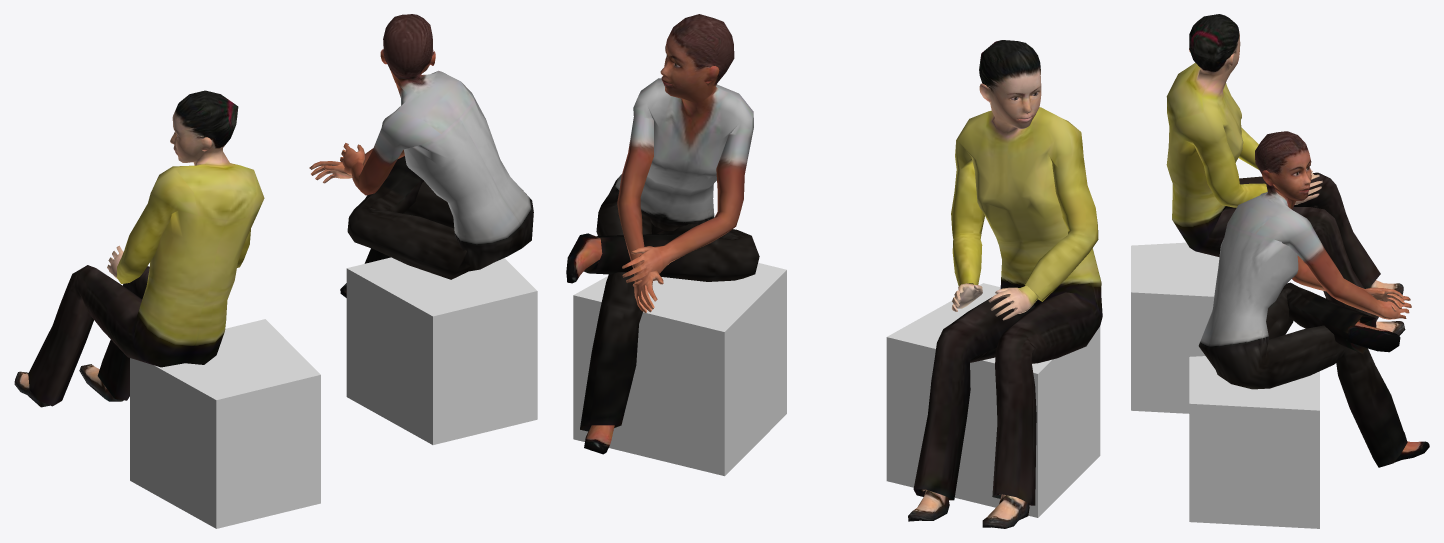
File: Publico.fbx
3 renders of one model, left to right at view 1: azimuth 30°, elevation 25°; view 2: azimuth 150°, elevation 25°; view 3: azimuth 270°, elevation 25°, orthographic. The views are drawn at different scales.
Visible parts, largest first — view 1: Female001, Seat002, Seat001, Female000; view 2: Female001, Female000, Seat001, Seat002; view 3: Female000, Female001, Seat001, Seat002.
Part boxes in pixels (bbox=[...]): Female001: bbox=[14, 90, 264, 407]; Seat002: bbox=[130, 319, 320, 528]; Seat001: bbox=[346, 257, 537, 444]; Female000: bbox=[309, 14, 533, 297]; Female001: bbox=[908, 40, 1102, 528]; Female000: bbox=[566, 14, 759, 454]; Seat001: bbox=[573, 263, 786, 476]; Seat002: bbox=[886, 283, 1100, 517]; Female000: bbox=[1198, 131, 1429, 467]; Female001: bbox=[1166, 14, 1405, 335]; Seat001: bbox=[1189, 356, 1319, 528]; Seat002: bbox=[1131, 242, 1219, 413].
Bounding box in the file's own units: 64.56 × 55.15 × 41.18.
Materials: 3 (2 with a texture image).
